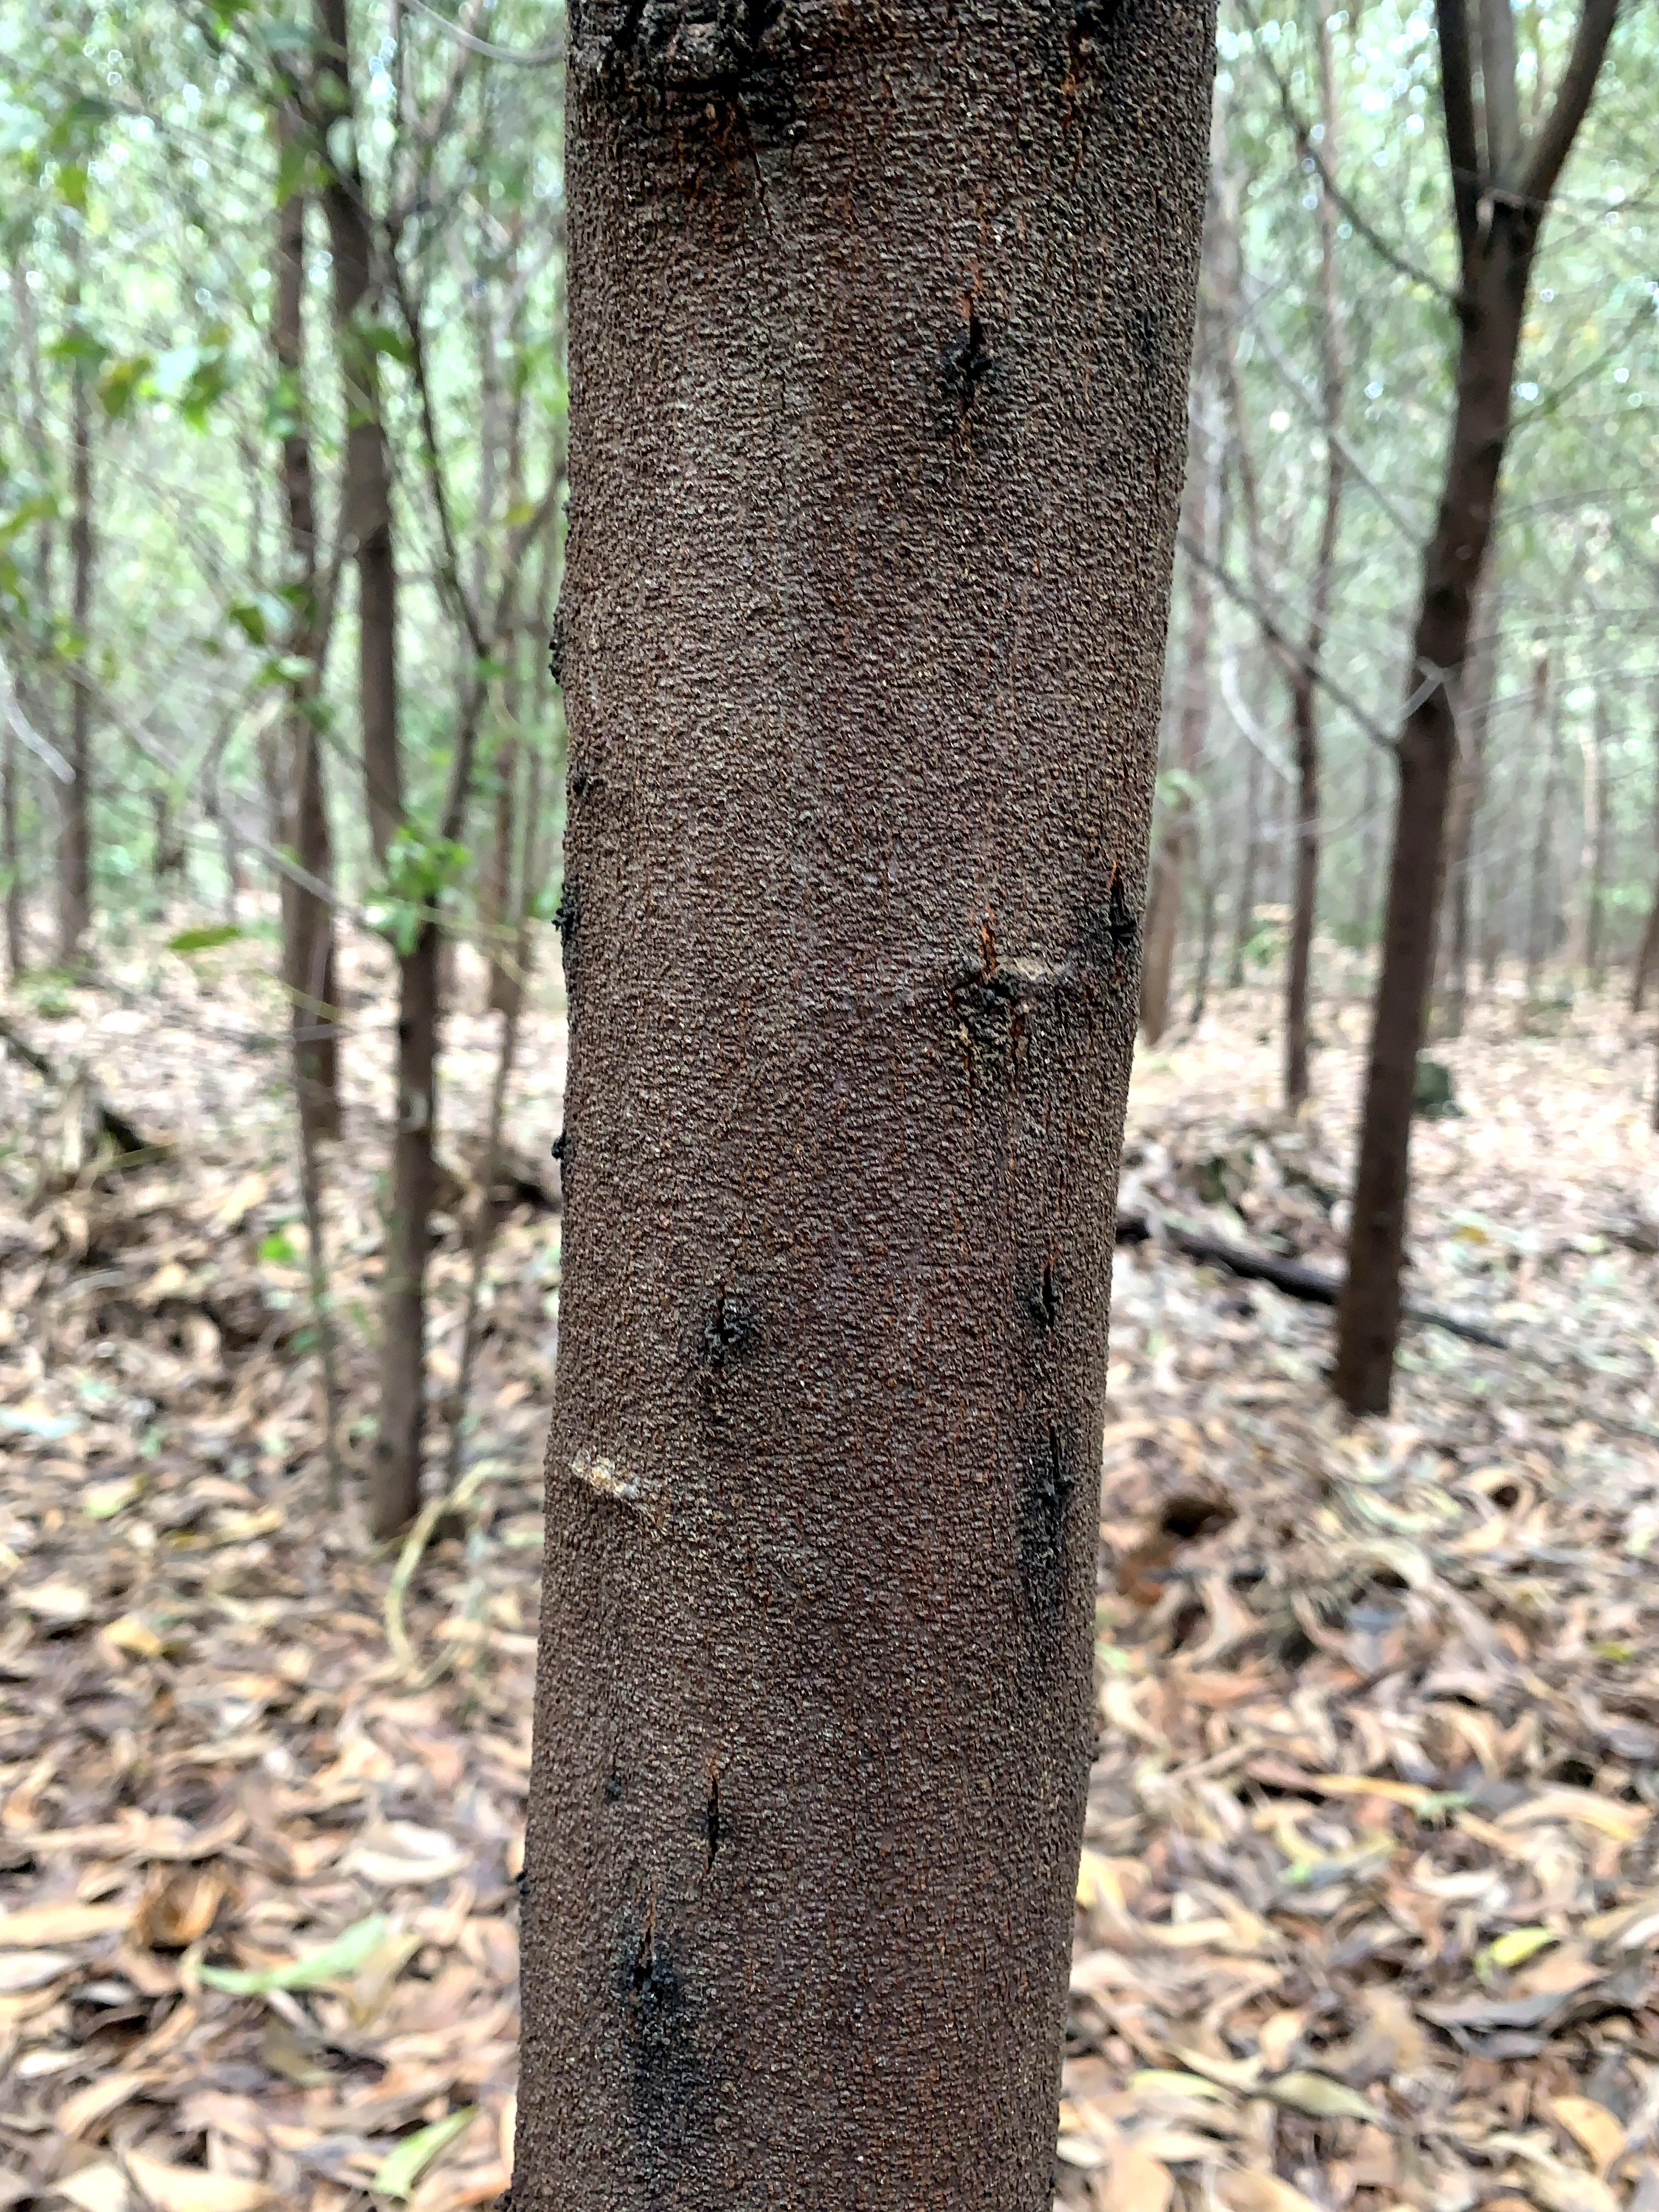Stem Borer: (992, 1235, 1098, 1353), (929, 287, 1007, 435), (950, 946, 1042, 1061), (683, 1280, 779, 1383), (678, 1780, 772, 1874), (1093, 848, 1148, 996), (1028, 1404, 1086, 1547), (617, 1937, 669, 2045)
